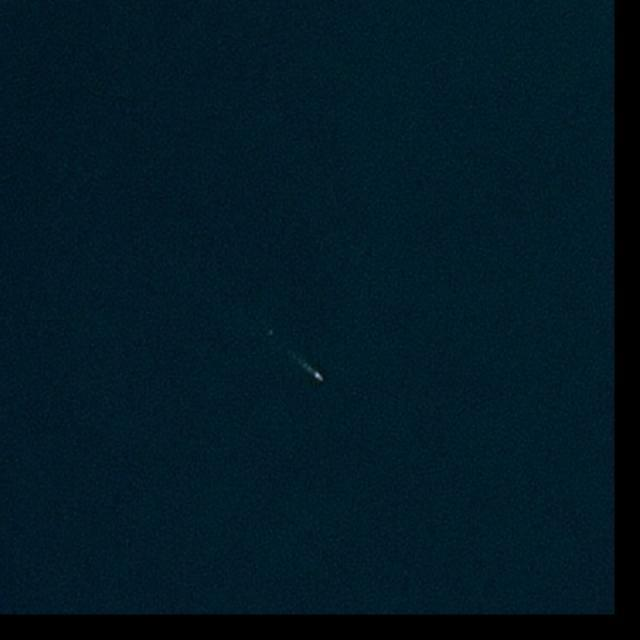ship: (314, 370, 326, 382)
